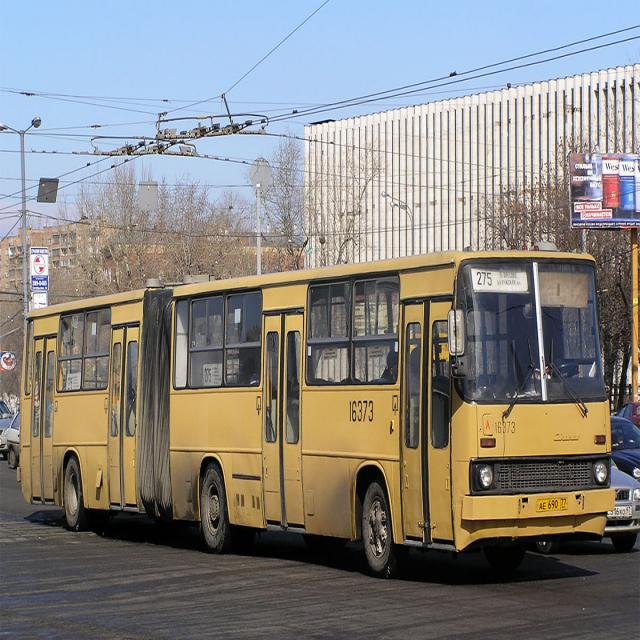number-of-bus: (475, 269, 495, 289)
